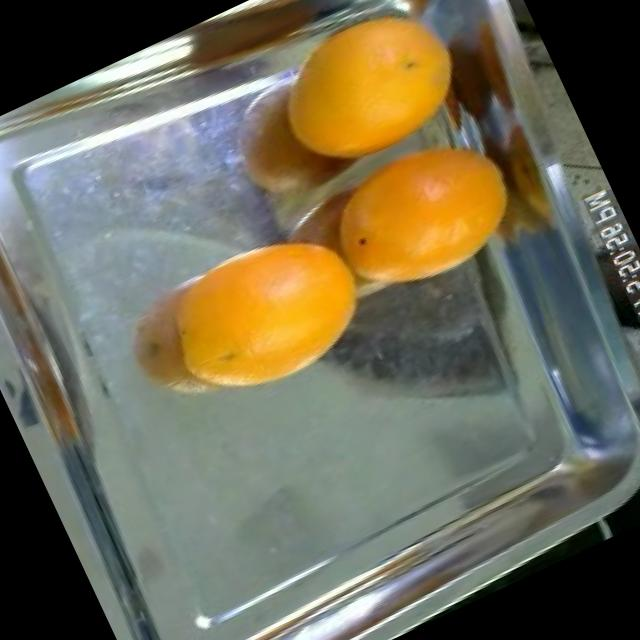Fruit: (158, 212, 394, 423)
